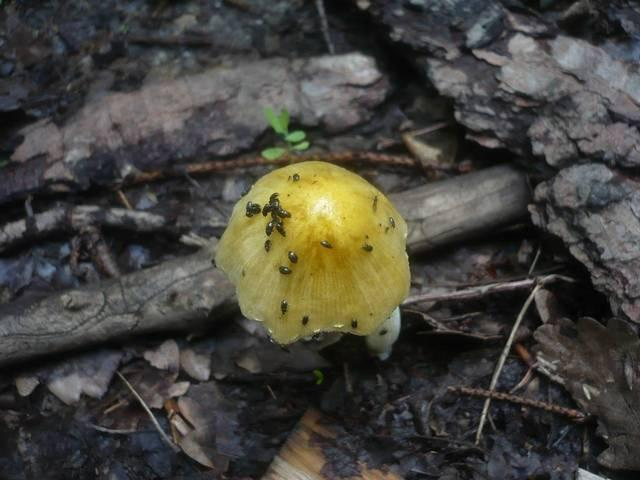Edible Mushroom: (213, 158, 411, 361)
